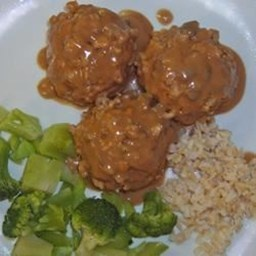background: (0, 0, 102, 102)
